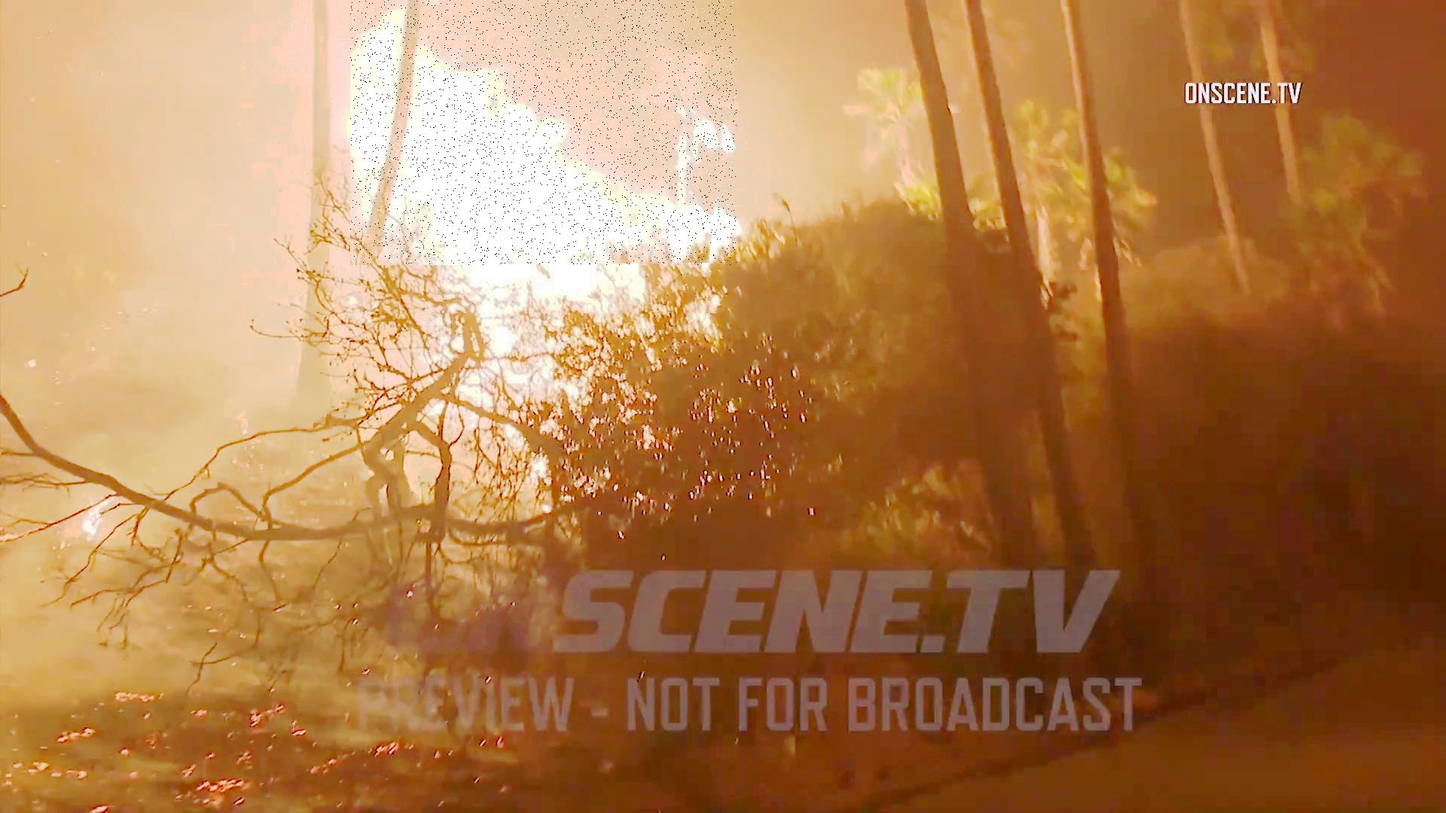fire: (350, 0, 737, 265)
